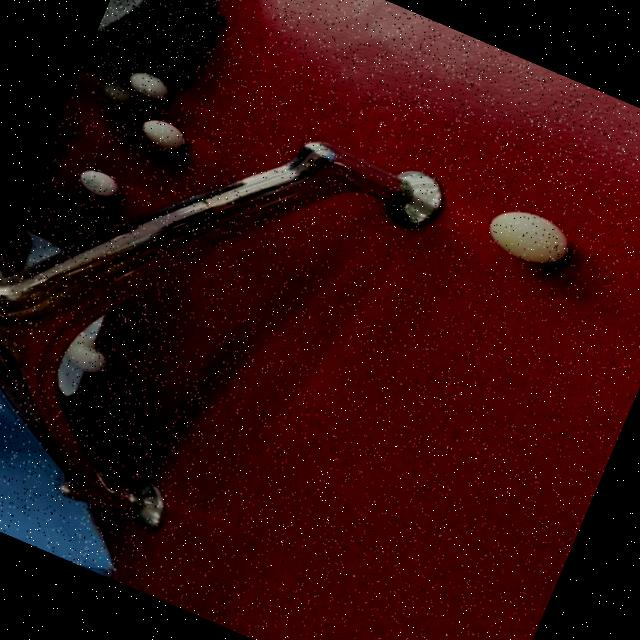ping-pong-ball: (479, 197, 578, 276), (135, 112, 192, 158), (122, 65, 176, 107), (60, 336, 110, 379), (74, 162, 125, 204), (95, 72, 143, 110), (0, 250, 11, 273)
